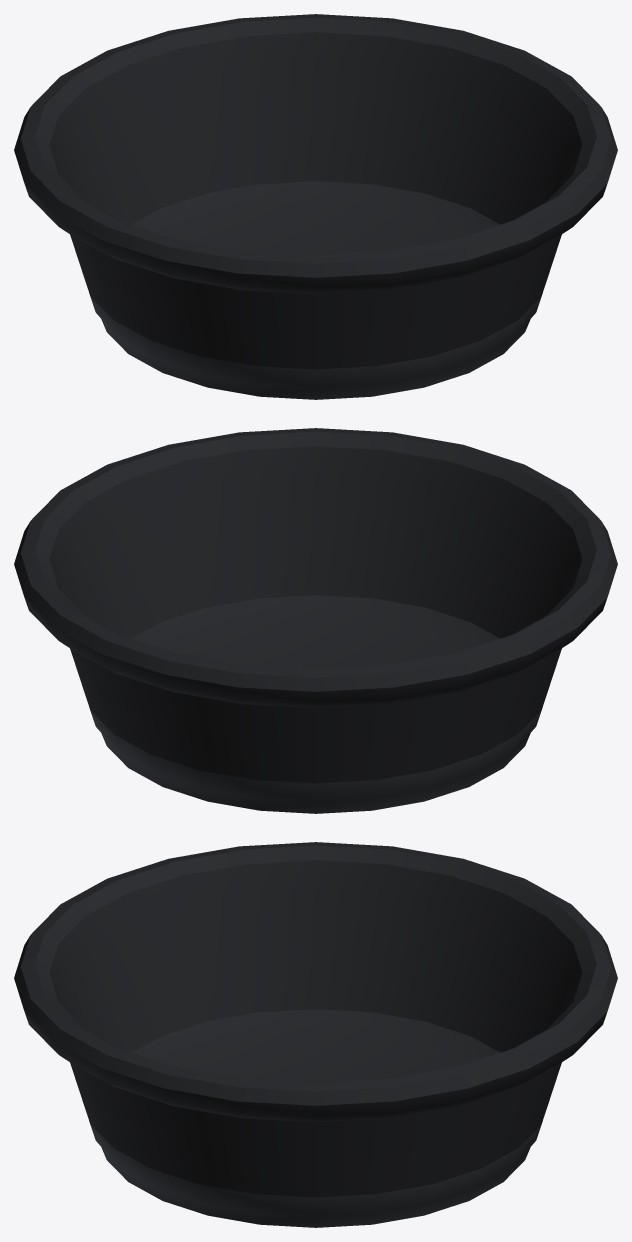
The model's file is SC_Home_RubberBasin_M_Black.gltf.
3 views of the same model, one above another, from view 1: azimuth 30°, elevation 25°; view 2: azimuth 150°, elevation 25°; view 3: azimuth 270°, elevation 25° (orthographic).
Parts seen in each view (by area): view 1: SC_Home_RubberBasin_M_Black; view 2: SC_Home_RubberBasin_M_Black; view 3: SC_Home_RubberBasin_M_Black.
Boxes of the visible parts, x1,y1,x2,y2 form: SC_Home_RubberBasin_M_Black: (14,14,617,399); SC_Home_RubberBasin_M_Black: (14,428,617,813); SC_Home_RubberBasin_M_Black: (14,842,617,1227).
Bounding box in the file's own units: 0.63 × 0.204 × 0.63.
1 material, 1 textured.
